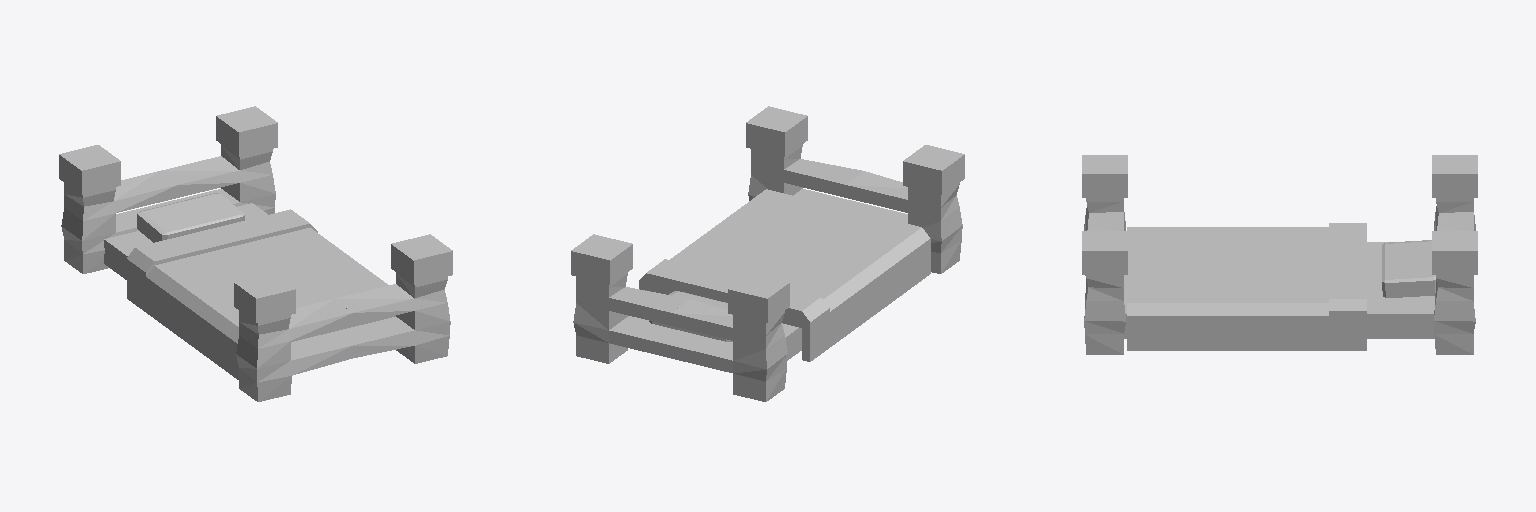
The model's file is bed.obj.
The picture shows the model from 3 angles: view 1: azimuth 30°, elevation 25°; view 2: azimuth 150°, elevation 25°; view 3: azimuth 270°, elevation 25°; orthographic projection.
Visible parts, largest first — view 1: Cube.001, Cube.003, Cube.002, Cube.004, Cube; view 2: Cube.003, Cube.002, Cube.001, Cube.004; view 3: Cube.003, Cube.002, Cube.001, Cube, Cube.004.
Boxes of the visible parts, x1,y1,x2,y2 form: Cube.001: [234, 234, 452, 401]; Cube.003: [127, 209, 395, 379]; Cube.002: [59, 106, 277, 273]; Cube.004: [137, 193, 244, 242]; Cube: [104, 203, 267, 279]; Cube.003: [639, 189, 930, 361]; Cube.002: [571, 234, 789, 401]; Cube.001: [746, 106, 964, 273]; Cube.004: [649, 291, 732, 341]; Cube.003: [1127, 223, 1366, 350]; Cube.002: [1432, 155, 1477, 354]; Cube.001: [1082, 155, 1127, 354]; Cube: [1124, 242, 1434, 338]; Cube.004: [1382, 240, 1435, 297].
Size of the model in its own units: 4.3 by 2.23 by 7.48.